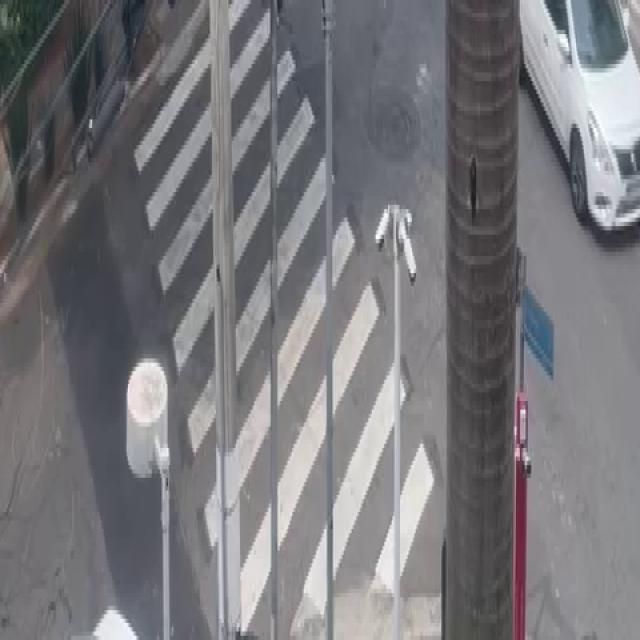car: (513, 0, 640, 256)
